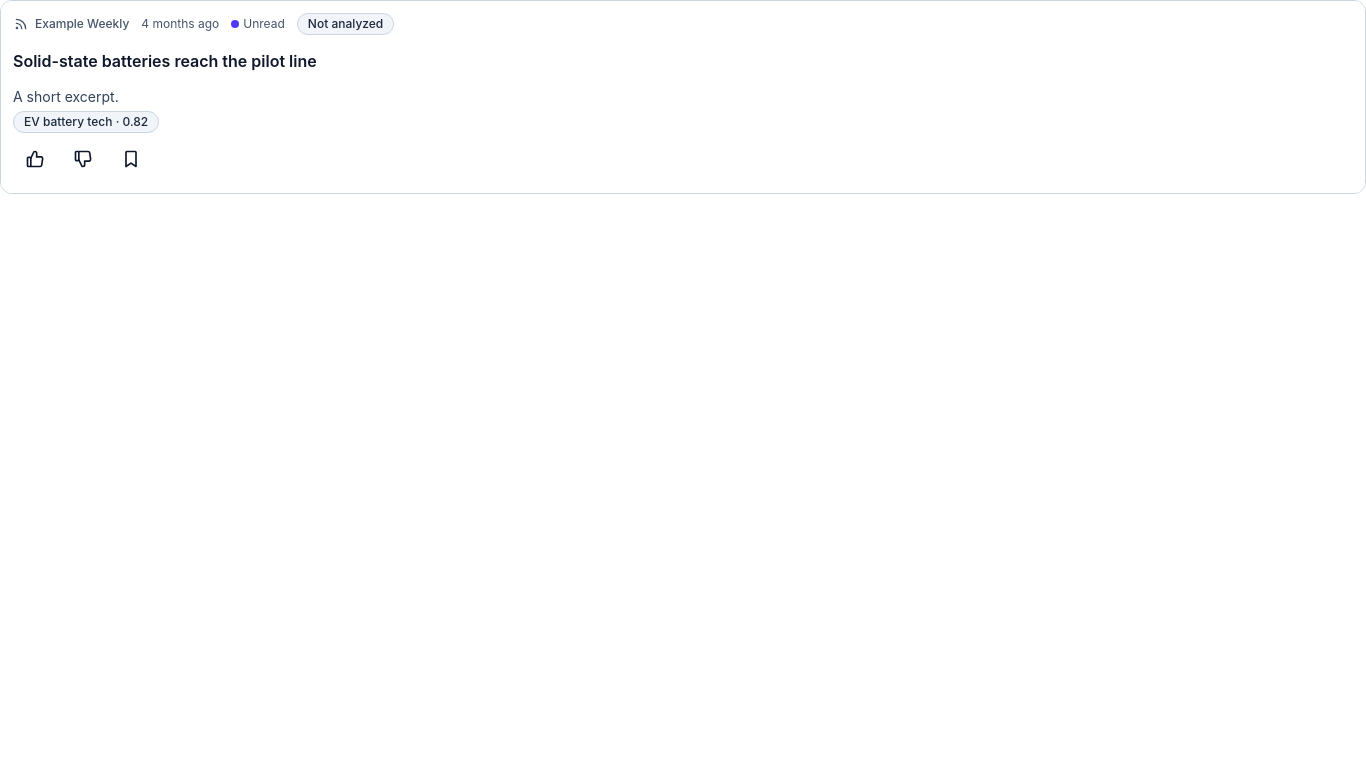
Test: reader action toasts › says what a rating that disliked did
Click the button named "Dislike": (83, 159) [61,137,105,181]
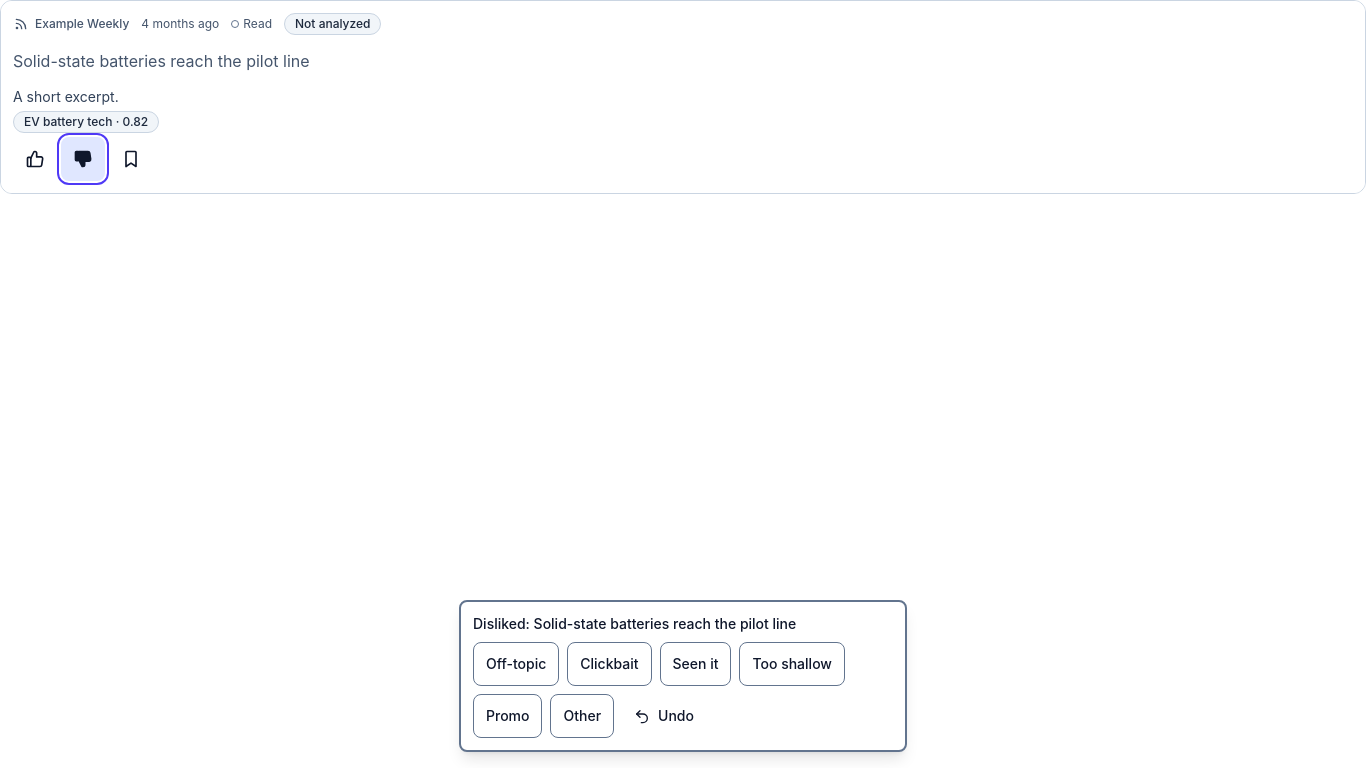
Click the button "Other": (582, 716) [550,694,614,738]
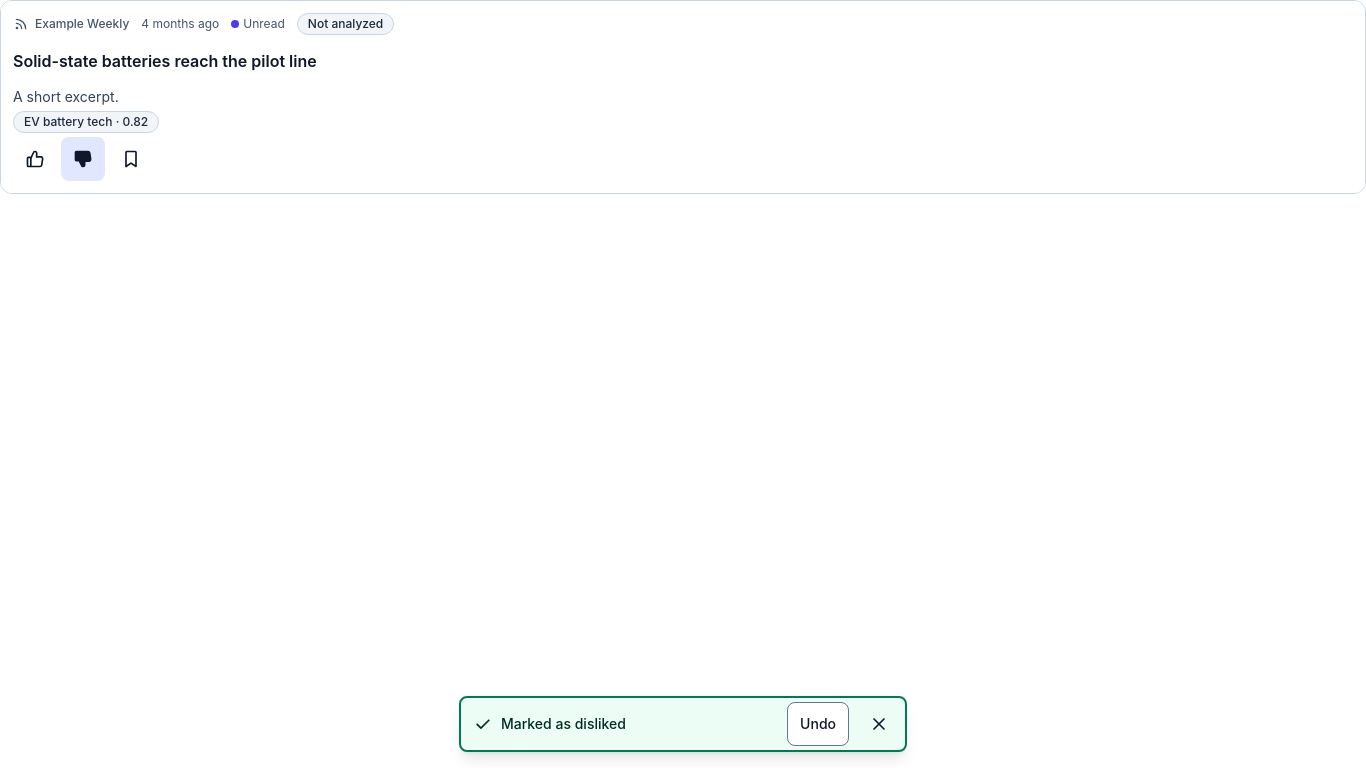
Now the text "Marked as disliked" is shown, box [459,696,907,752]
